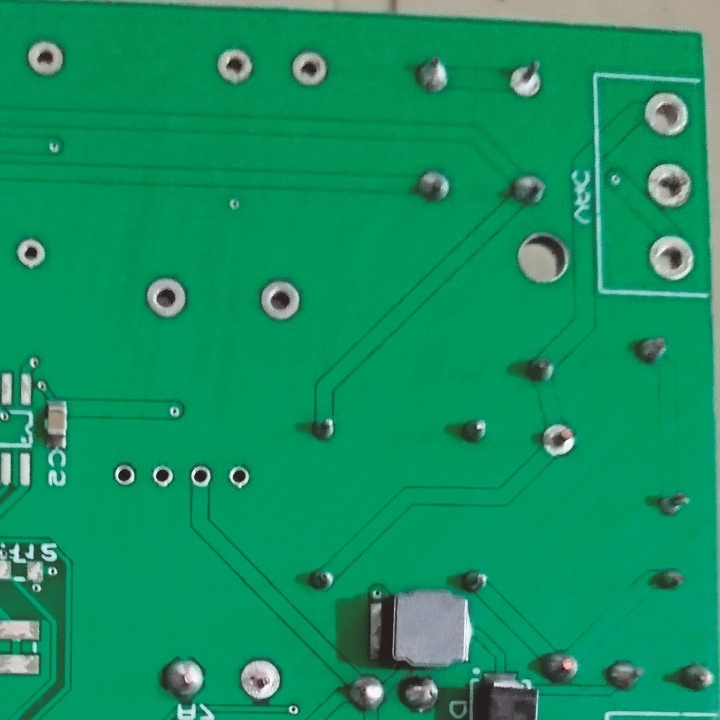F: (642, 232, 699, 285), (644, 159, 697, 215), (640, 90, 693, 144), (142, 272, 190, 320), (258, 276, 304, 326), (507, 55, 552, 102), (213, 43, 258, 89), (287, 45, 333, 89), (236, 657, 282, 701), (24, 33, 67, 80), (539, 421, 579, 457), (14, 235, 52, 272), (226, 461, 253, 492), (111, 460, 140, 488), (151, 462, 176, 492), (187, 463, 215, 489)
